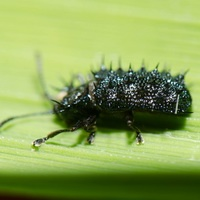insect: (0, 54, 191, 149)
